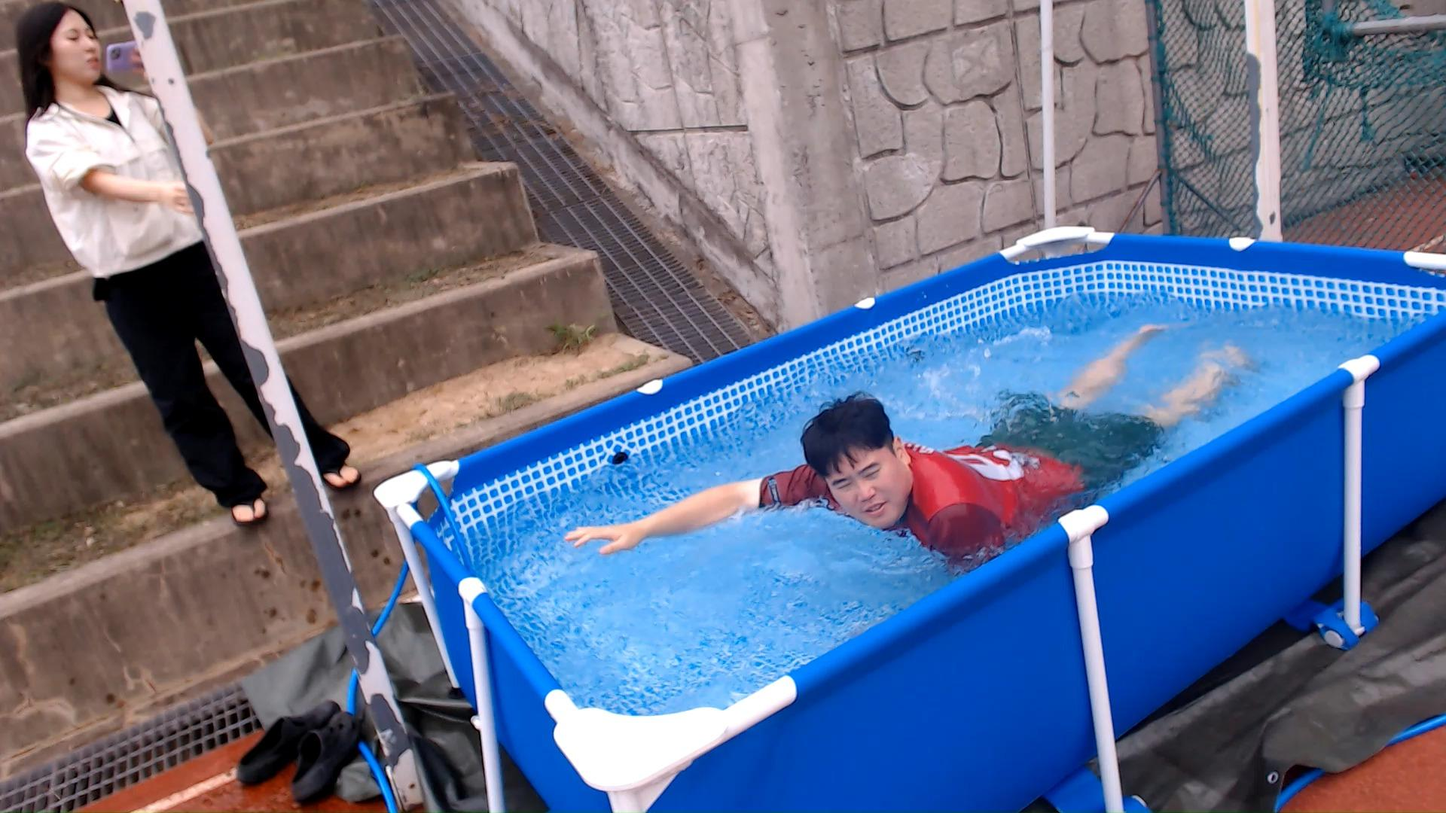Swimming: (532, 280, 1268, 629)
